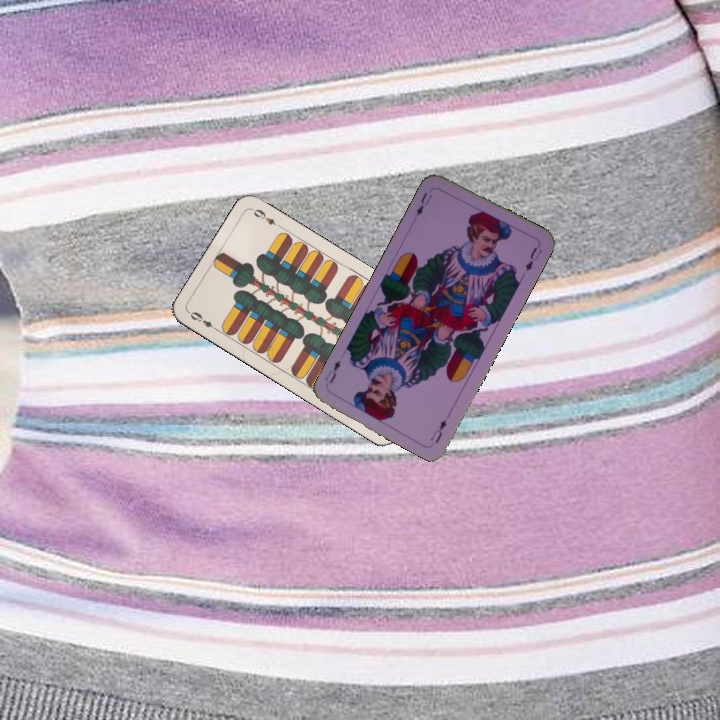E9: (186, 307, 221, 334)
EU: (426, 415, 449, 446), (412, 188, 435, 218)
